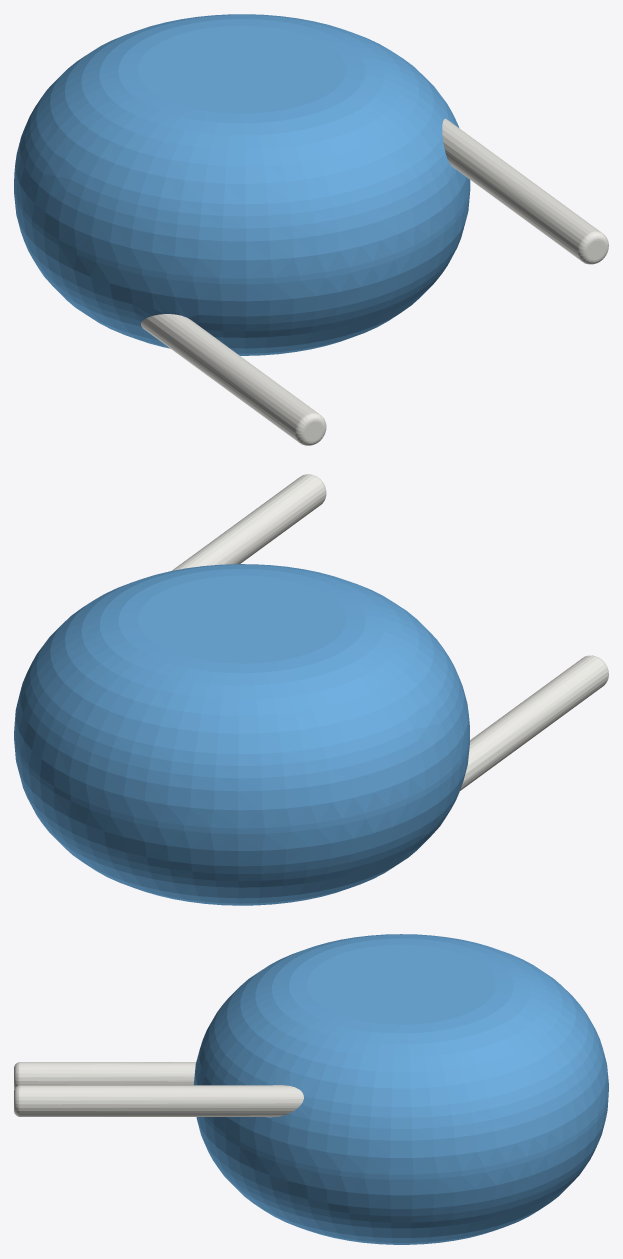
Rendered from RV_Disc_D7mm_W3.9mm_P5mm.glb.
The picture shows the model from 3 angles, top to bottom: view 1: azimuth 30°, elevation 25°; view 2: azimuth 150°, elevation 25°; view 3: azimuth 270°, elevation 25°; orthographic projection. The views are drawn at different scales.
Visible parts, largest first — view 1: Shape_IndexedFaceSet.001, Shape_IndexedFaceSet.002, Shape_IndexedFaceSet.003, Shape_IndexedFaceSet.006, Shape_IndexedFaceSet.004, Shape_IndexedFaceSet, Shape_IndexedFaceSet.007; view 2: Shape_IndexedFaceSet.001, Shape_IndexedFaceSet.002, Shape_IndexedFaceSet.003, Shape_IndexedFaceSet.006, Shape_IndexedFaceSet.004, Shape_IndexedFaceSet; view 3: Shape_IndexedFaceSet.001, Shape_IndexedFaceSet.002, Shape_IndexedFaceSet.003, Shape_IndexedFaceSet.004, Shape_IndexedFaceSet.006, Shape_IndexedFaceSet.
Part boxes in pixels (<box>): Shape_IndexedFaceSet.001: <box>14,14,470,278</box>; Shape_IndexedFaceSet.002: <box>14,190,470,355</box>; Shape_IndexedFaceSet.003: <box>138,25,346,113</box>; Shape_IndexedFaceSet.006: <box>141,314,318,441</box>; Shape_IndexedFaceSet.004: <box>442,118,602,260</box>; Shape_IndexedFaceSet: <box>14,185,470,284</box>; Shape_IndexedFaceSet.007: <box>577,231,608,264</box>; Shape_IndexedFaceSet.001: <box>14,564,469,828</box>; Shape_IndexedFaceSet.002: <box>14,740,469,905</box>; Shape_IndexedFaceSet.003: <box>138,575,346,663</box>; Shape_IndexedFaceSet.006: <box>460,656,607,790</box>; Shape_IndexedFaceSet.004: <box>172,474,325,570</box>; Shape_IndexedFaceSet: <box>14,734,469,834</box>; Shape_IndexedFaceSet.001: <box>193,934,608,1174</box>; Shape_IndexedFaceSet.002: <box>196,1096,608,1244</box>; Shape_IndexedFaceSet.003: <box>306,944,496,1024</box>; Shape_IndexedFaceSet.004: <box>20,1085,303,1117</box>; Shape_IndexedFaceSet.006: <box>20,1062,196,1085</box>; Shape_IndexedFaceSet: <box>203,1087,608,1179</box>.
Size of the model in its own units: 2.75 by 1.54 by 3.95.
